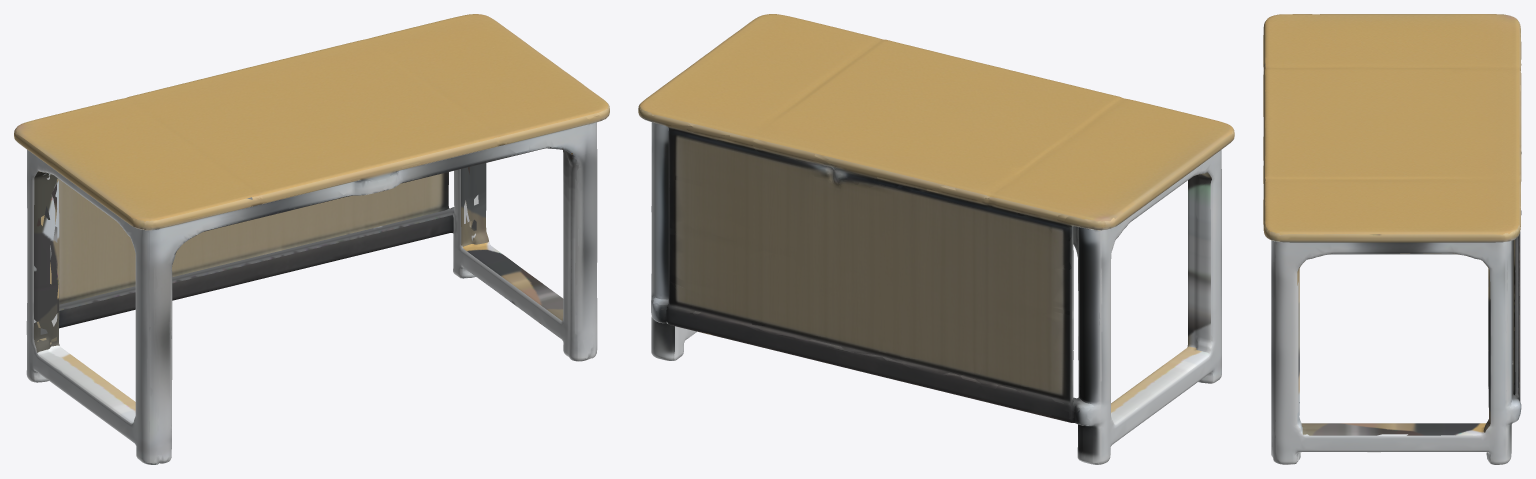
The model's file is table__table#3.glb.
3 renders of one model, left to right at view 1: azimuth 30°, elevation 25°; view 2: azimuth 150°, elevation 25°; view 3: azimuth 270°, elevation 25°, orthographic. The views are drawn at different scales.
Visible parts, largest first — view 1: tmp3s___l4w.ply; view 2: tmp3s___l4w.ply; view 3: tmp3s___l4w.ply.
Part boxes in pixels (x1,y1,x2,y2): tmp3s___l4w.ply: (14, 14, 609, 464); tmp3s___l4w.ply: (638, 14, 1234, 464); tmp3s___l4w.ply: (1263, 14, 1521, 464).
Bounding box in the file's own units: 1.99 × 0.9994 × 0.982.
1 material, 1 textured.
